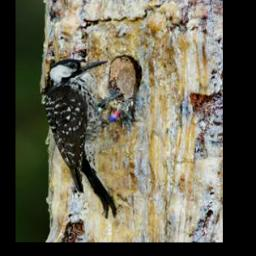Woodpecker: (43, 58, 134, 217)
